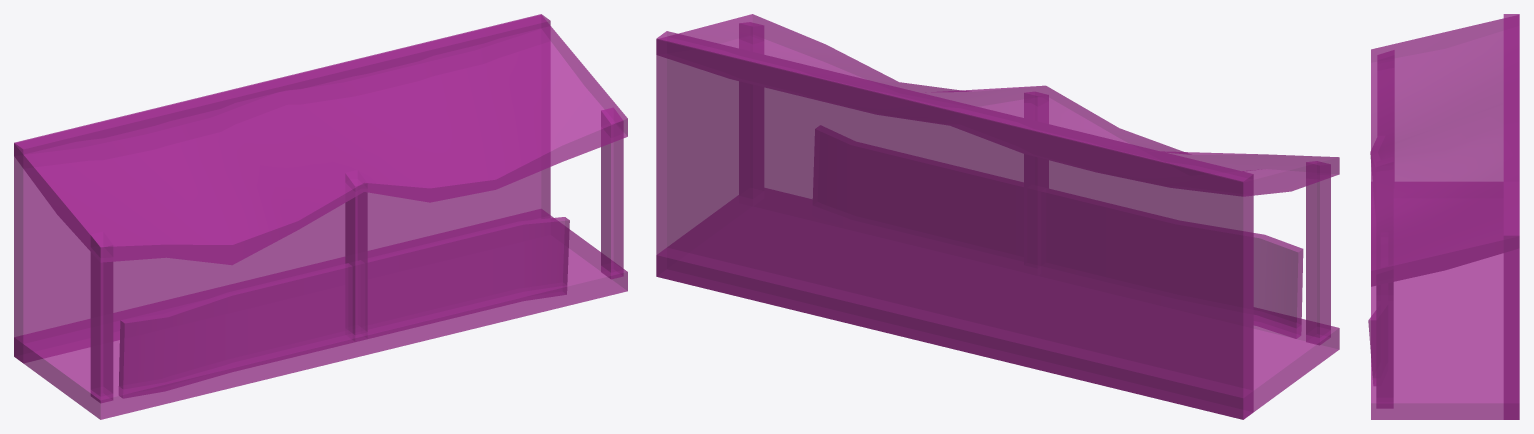
Rendered from SM_Prop_Crane_Platform_01_Collision.fbx.
3 renders of one model, left to right at view 1: azimuth 30°, elevation 25°; view 2: azimuth 150°, elevation 25°; view 3: azimuth 270°, elevation 25°, orthographic. The views are drawn at different scales.
Parts seen in each view (by area): view 1: SM_Prop_Crane_Platform_01_Collision; view 2: SM_Prop_Crane_Platform_01_Collision; view 3: SM_Prop_Crane_Platform_01_Collision.
Part boxes in pixels (box(x1,y1,x2,y2)): SM_Prop_Crane_Platform_01_Collision: box(14, 14, 627, 419); SM_Prop_Crane_Platform_01_Collision: box(656, 14, 1339, 419); SM_Prop_Crane_Platform_01_Collision: box(1368, 14, 1519, 419).
Bounding box in the file's own units: 819 × 318 × 236.
